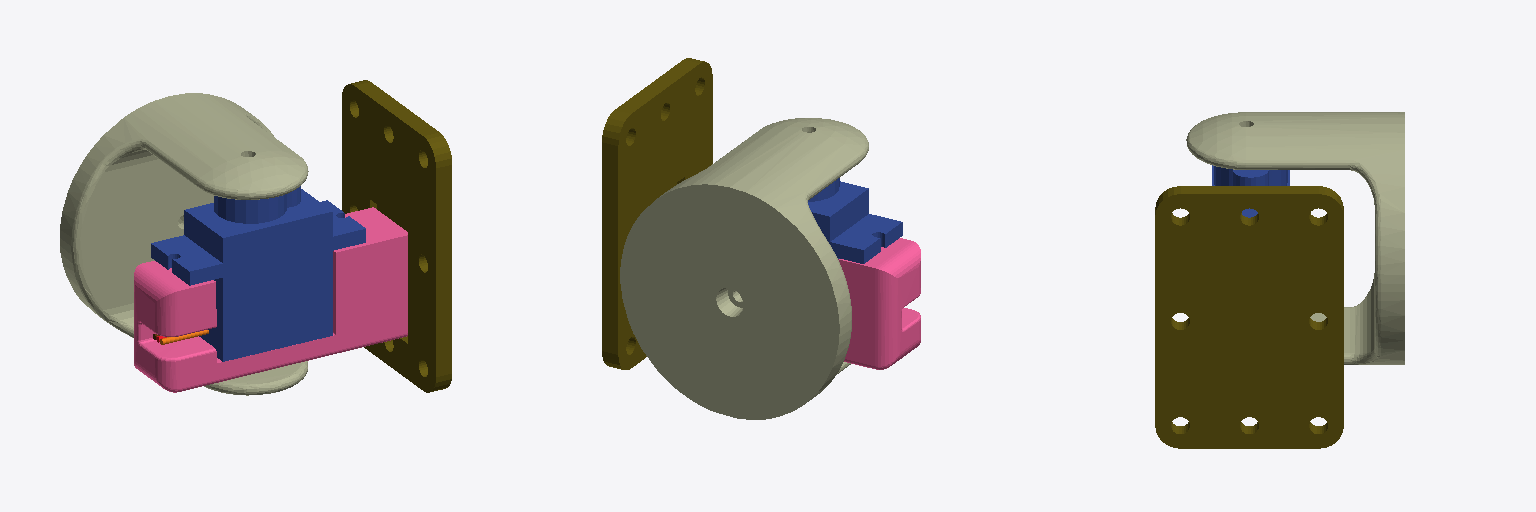
Rendered from tinker.obj.
The picture shows the model from 3 angles: view 1: azimuth 30°, elevation 25°; view 2: azimuth 150°, elevation 25°; view 3: azimuth 270°, elevation 25°; orthographic projection.
Parts seen in each view (by area): view 1: obj_0; view 2: obj_0; view 3: obj_0.
Boxes of the visible parts, x1=… form: obj_0: x1=60, y1=80, x2=451, y2=395; obj_0: x1=602, y1=58, x2=920, y2=419; obj_0: x1=1155, y1=112, x2=1404, y2=448.
Bounding box in the file's own units: 48.88 × 44.36 × 39.4.